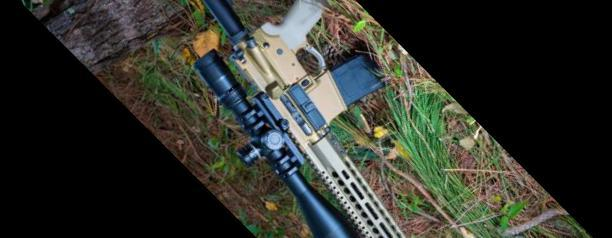larga: (192, 0, 404, 238)
